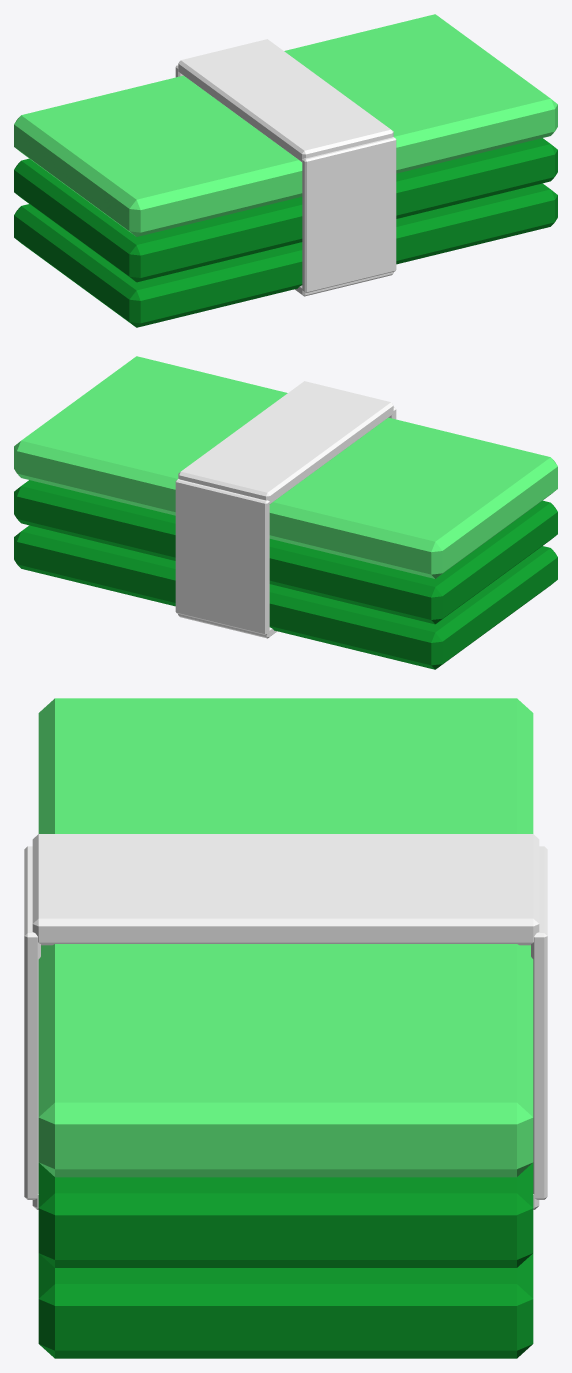
File: PROP_cash_stack__v001__model.fbx
3 renders of one model, top to bottom at view 1: azimuth 30°, elevation 25°; view 2: azimuth 150°, elevation 25°; view 3: azimuth 270°, elevation 25°, orthographic. The views are drawn at different scales.
Parts seen in each view (by area): view 1: PROP_cash_stack_Mesh; view 2: PROP_cash_stack_Mesh; view 3: PROP_cash_stack_Mesh.
Boxes of the visible parts, left/top/right/bottom form: PROP_cash_stack_Mesh: left=14, top=14, right=557, bottom=327; PROP_cash_stack_Mesh: left=14, top=356, right=557, bottom=669; PROP_cash_stack_Mesh: left=24, top=698, right=547, bottom=1358.
Size of the model in its own units: 0.84 by 0.2725 by 0.444.
1 material, 1 textured.
